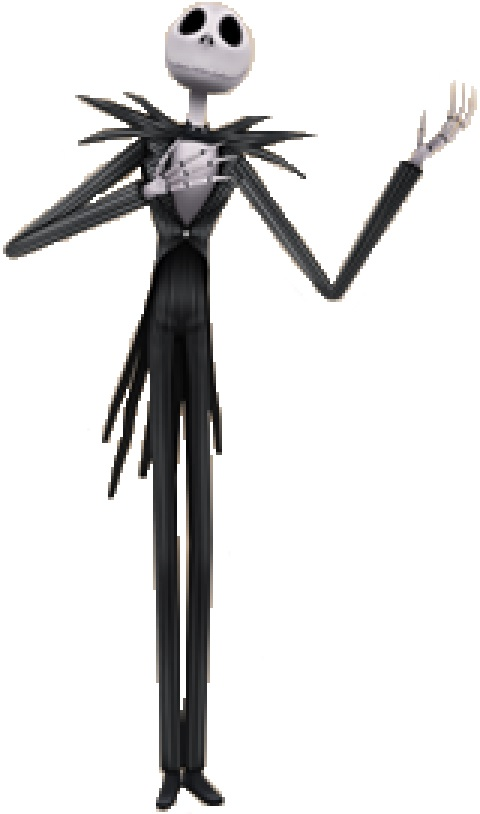Jack Skellington: (2, 1, 479, 811)
